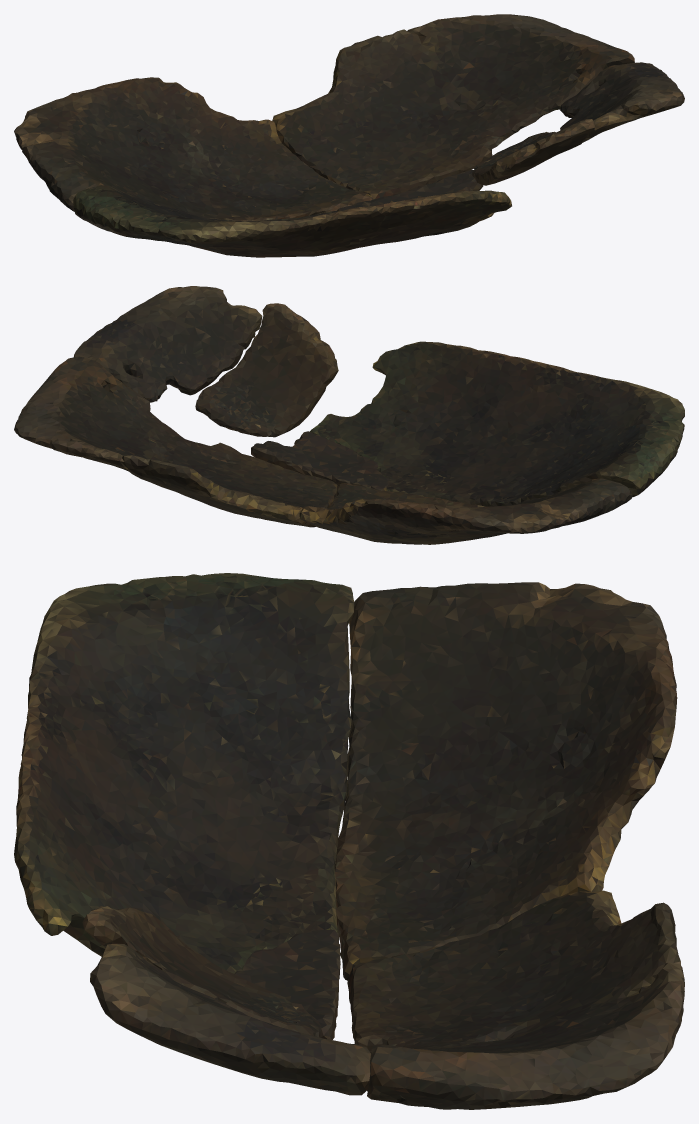
File: vaschetta.obj
3 views of the same model, one above another, from view 1: azimuth 30°, elevation 25°; view 2: azimuth 150°, elevation 25°; view 3: azimuth 270°, elevation 25° (orthographic). The views are drawn at different scales.
Parts seen in each view (by area): view 1: vaschetta; view 2: vaschetta; view 3: vaschetta.
Boxes of the visible parts, x1,y1,x2,y2 form: vaschetta: [14, 14, 684, 257]; vaschetta: [14, 286, 684, 544]; vaschetta: [14, 573, 684, 1109].
Size of the model in its own units: 1.36 by 0.256 by 0.7963.
Materials: 1 (1 with a texture image).
